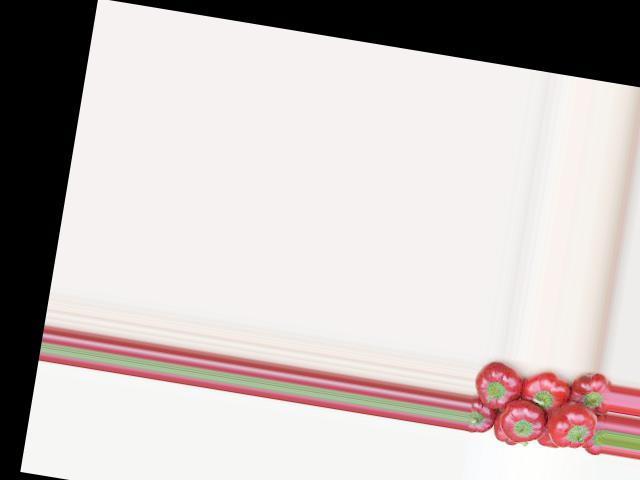bell_pepper: (536, 428, 557, 450)
